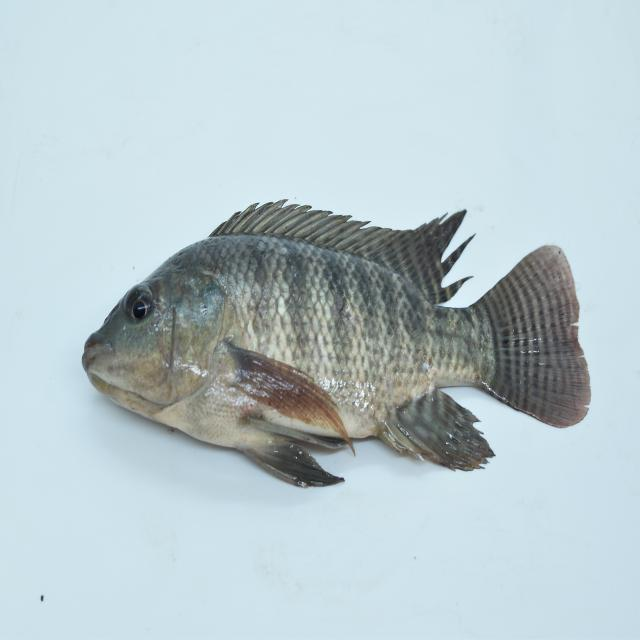Healthy Fish: (68, 195, 592, 496)
